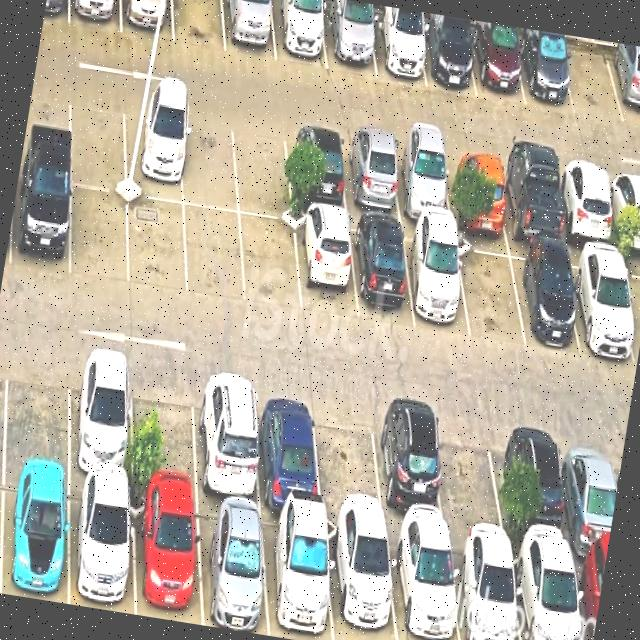empty: (438, 409, 507, 545), (315, 392, 385, 526), (133, 360, 198, 496), (5, 341, 69, 473), (456, 237, 525, 346), (233, 116, 292, 221), (184, 205, 246, 303), (182, 108, 239, 211), (129, 196, 187, 297), (240, 216, 301, 312), (70, 89, 126, 192), (71, 186, 129, 285), (561, 40, 623, 123), (173, 0, 226, 52), (621, 254, 640, 360)
occupied: (373, 401, 449, 535), (196, 499, 269, 636), (132, 489, 203, 625), (0, 469, 70, 604), (262, 510, 333, 640), (195, 370, 261, 506), (70, 477, 135, 615), (255, 381, 321, 513), (70, 348, 133, 485), (327, 519, 398, 640), (510, 418, 572, 553), (567, 247, 637, 360), (388, 531, 460, 640), (403, 226, 470, 337), (509, 243, 579, 349), (561, 426, 617, 557), (450, 537, 521, 640), (350, 217, 415, 325), (296, 210, 358, 319), (512, 546, 582, 640), (11, 171, 71, 277), (124, 98, 183, 203), (499, 156, 564, 245), (446, 148, 508, 235), (286, 125, 348, 212), (391, 139, 453, 224), (341, 132, 402, 218), (557, 163, 616, 247), (517, 30, 575, 114), (469, 23, 526, 104), (418, 19, 476, 96), (369, 11, 426, 86), (271, 0, 328, 69), (323, 4, 376, 76), (223, 0, 276, 61), (572, 553, 607, 640), (606, 46, 640, 125), (607, 169, 640, 250), (121, 0, 174, 41), (70, 0, 122, 33)
